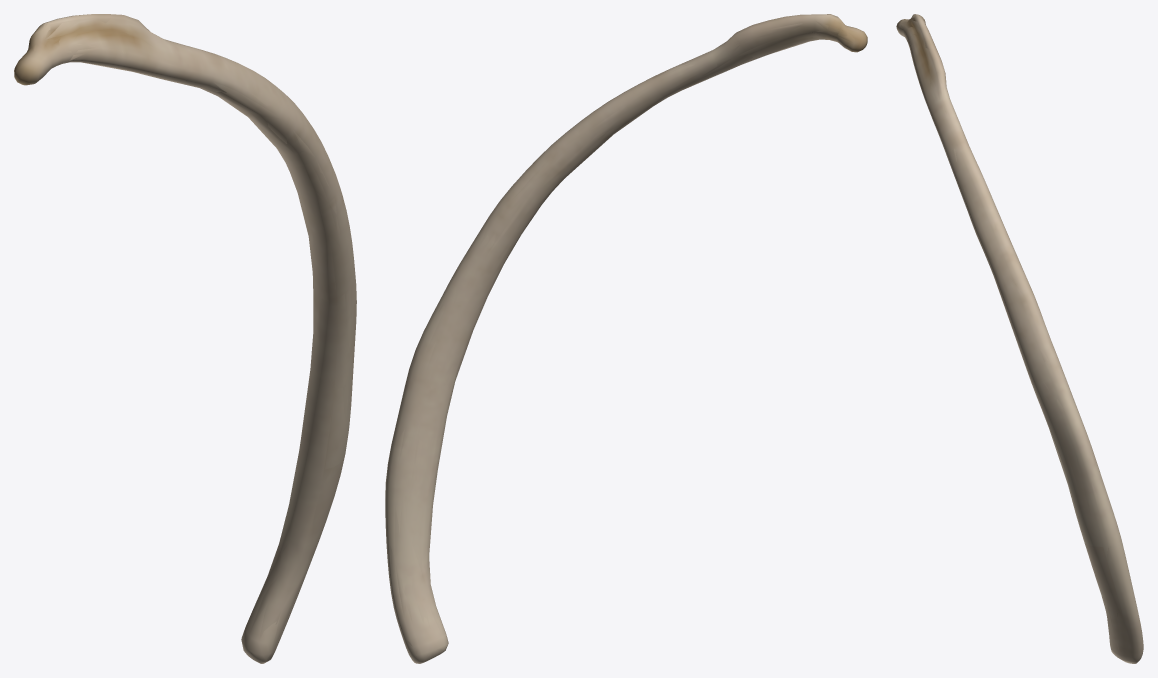
The model's file is Rib L11.fbx.
3 views of the same model, side by side, from view 1: azimuth 30°, elevation 25°; view 2: azimuth 150°, elevation 25°; view 3: azimuth 270°, elevation 25° (orthographic). The views are drawn at different scales.
Parts seen in each view (by area): view 1: Rib L11 low, Rib L11; view 2: Rib L11 low, Rib L11; view 3: Rib L11, Rib L11 low.
Part boxes in pixels (box(x1,y1,x2,y2)): Rib L11 low: box(19, 15, 355, 660); Rib L11: box(14, 14, 356, 663); Rib L11 low: box(390, 14, 864, 662); Rib L11: box(385, 14, 867, 663); Rib L11: box(896, 14, 1143, 663); Rib L11 low: box(899, 14, 1142, 652).
Size of the model in its own units: 25.85 by 43.03 by 18.15.
1 material, 1 textured.
